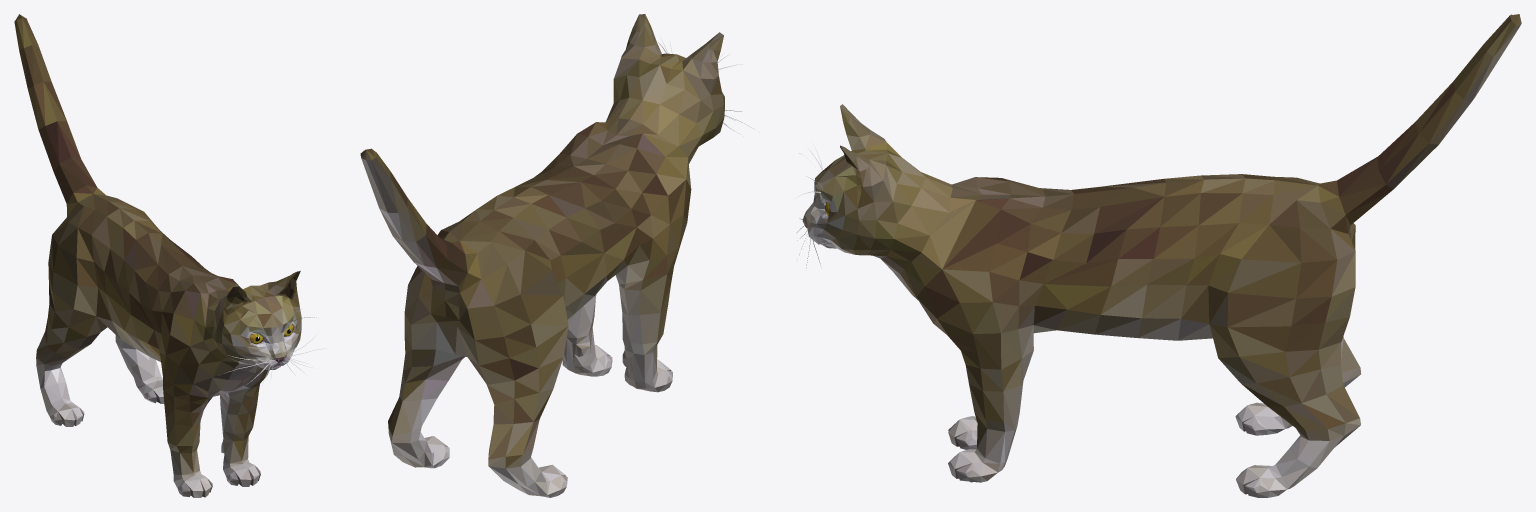
Rendered from cat.gltf.
3 views of the same model, side by side, from view 1: azimuth 30°, elevation 25°; view 2: azimuth 150°, elevation 25°; view 3: azimuth 270°, elevation 25° (orthographic). The views are drawn at different scales.
Visible parts, largest first — view 1: uploads_files_669181_cat_01_color05; view 2: uploads_files_669181_cat_01_color05; view 3: uploads_files_669181_cat_01_color05.
Boxes of the visible parts, left/top/right/bottom form: uploads_files_669181_cat_01_color05: left=14, top=14, right=329, bottom=497; uploads_files_669181_cat_01_color05: left=360, top=14, right=754, bottom=497; uploads_files_669181_cat_01_color05: left=795, top=14, right=1521, bottom=497.
Size of the model in its own units: 14.71 by 37.3 by 55.5.
Materials: 1 (1 with a texture image).
